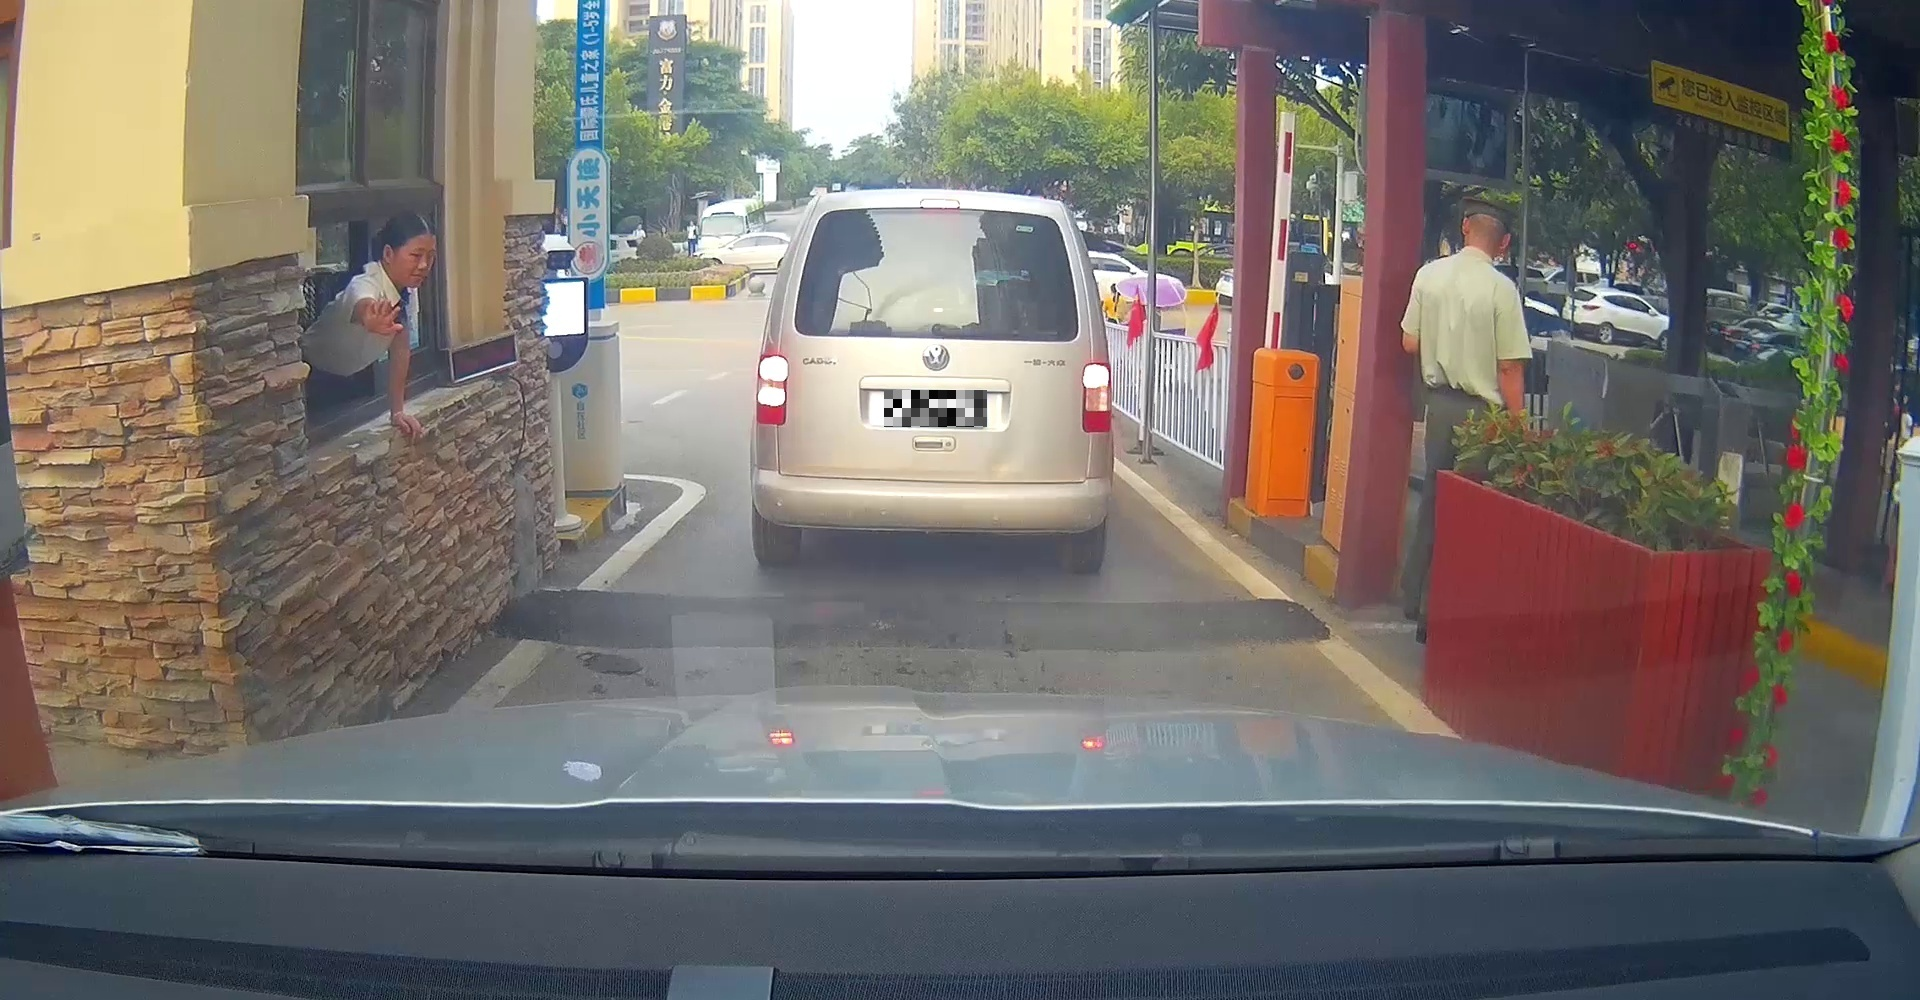L_light: (757, 355, 787, 425)
R_light: (1081, 363, 1112, 433)
T_light: (919, 198, 960, 209)
day-brake: (754, 189, 1116, 574)
plate_1: (884, 390, 987, 426)
